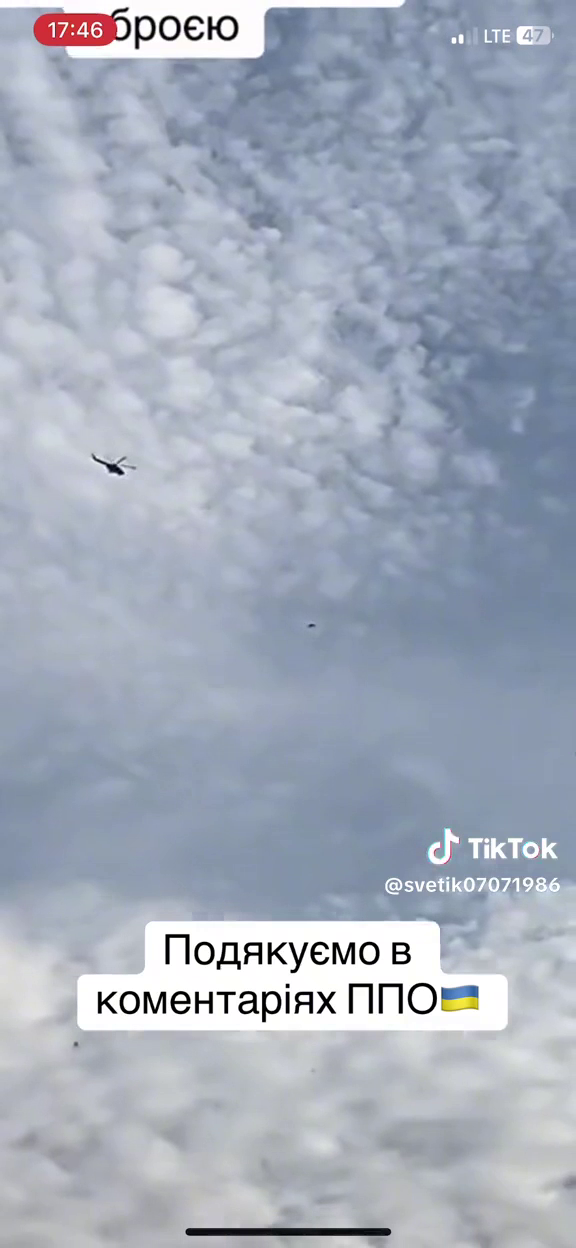not_drone: (87, 450, 139, 480)
